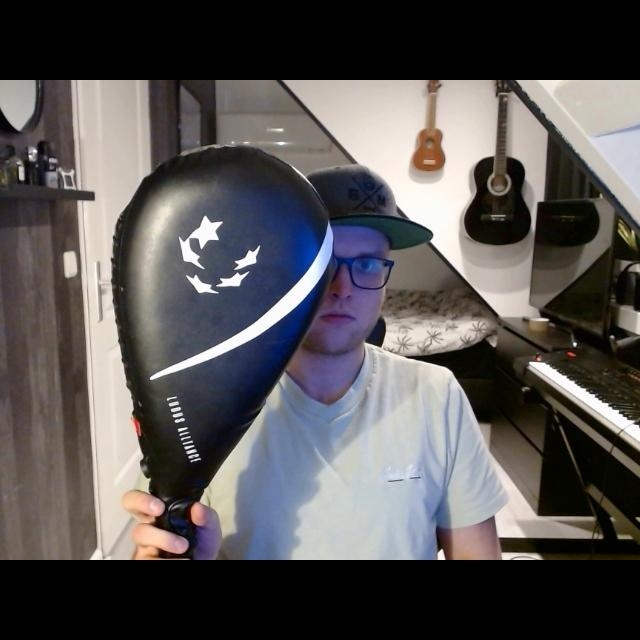paddle: (109, 143, 333, 527)
